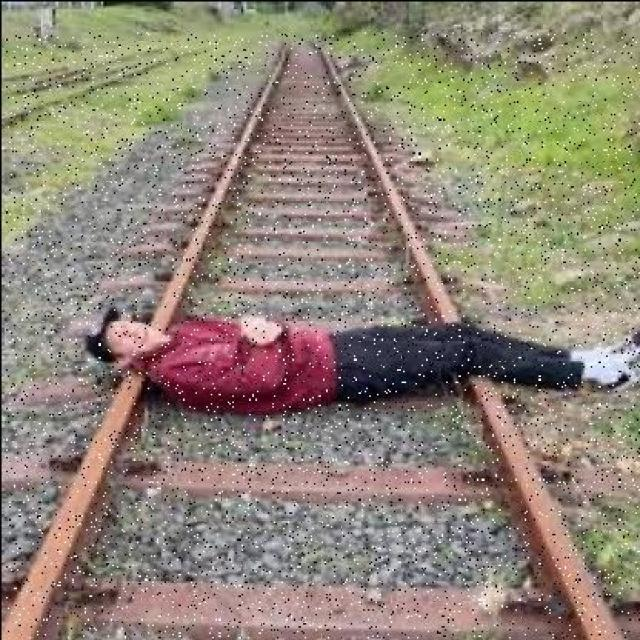danger: (66, 300, 640, 398)
rail: (5, 32, 640, 637)
